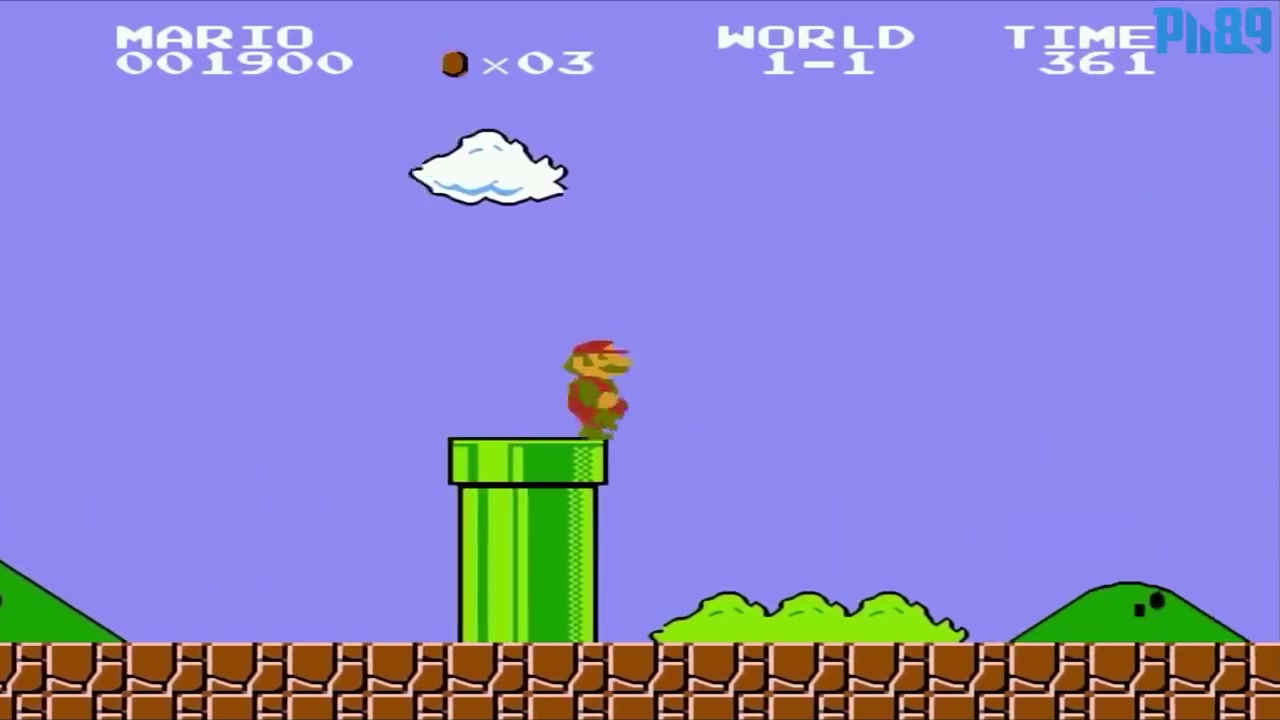mario: (553, 328, 649, 447)
